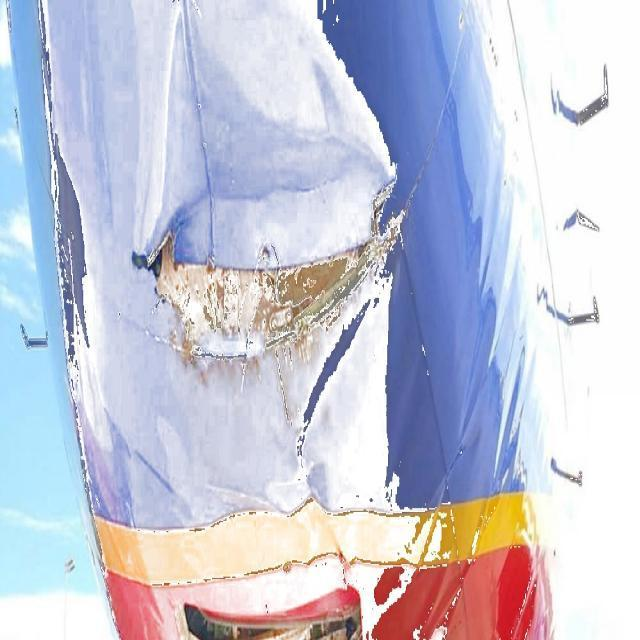crack: (143, 164, 413, 390)
